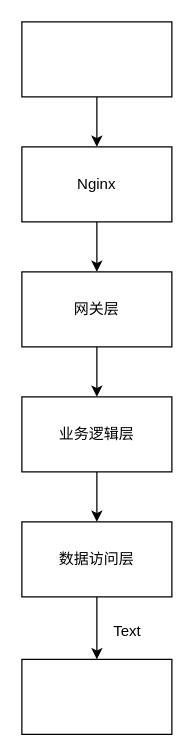
This 194x756 diagram has some shape labels left out. Here are the shapes that lost their labels. From the top down, the centre of each, then its label:
At pixel 96 59: "App".
At pixel 96 696: "DB/Cache".
